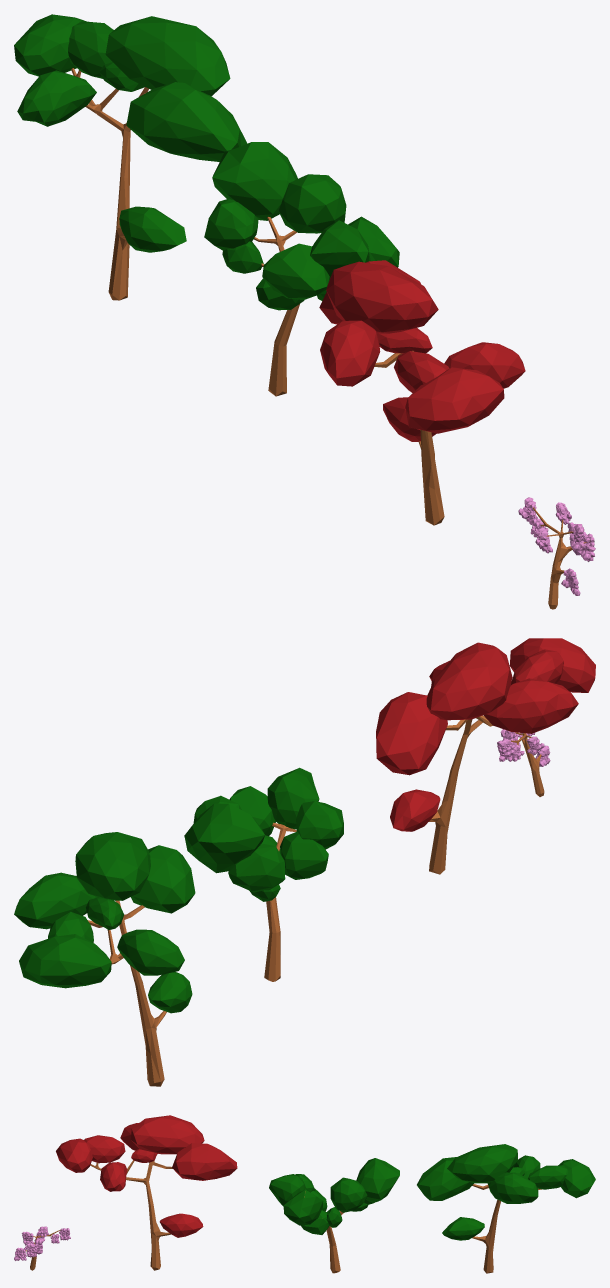
The model's file is Trees.fbx.
3 renders of one model, top to bottom at view 1: azimuth 30°, elevation 25°; view 2: azimuth 150°, elevation 25°; view 3: azimuth 270°, elevation 25°, orthographic. The views are drawn at different scales.
Visible parts, largest first — view 1: Green chinese tree, Red chinese tree, Oak Tree, Wisteria Tree; view 2: Green chinese tree, Red chinese tree, Oak Tree, Wisteria Tree; view 3: Red chinese tree, Green chinese tree, Oak Tree, Wisteria Tree.
Part boxes in pixels (box(x1,y1,x2,y2)): Green chinese tree: box(14, 14, 247, 300); Red chinese tree: box(319, 260, 525, 525); Oak Tree: box(204, 142, 399, 396); Wisteria Tree: box(518, 497, 595, 609); Green chinese tree: box(14, 832, 195, 1086); Red chinese tree: box(376, 638, 595, 874); Oak Tree: box(184, 767, 343, 981); Wisteria Tree: box(497, 729, 550, 796); Red chinese tree: box(56, 1115, 237, 1270); Green chinese tree: box(417, 1144, 595, 1273); Oak Tree: box(269, 1158, 399, 1273); Wisteria Tree: box(14, 1226, 70, 1270).
Size of the model in its own units: 583 by 612 by 2275.
4 materials, 4 textured.
